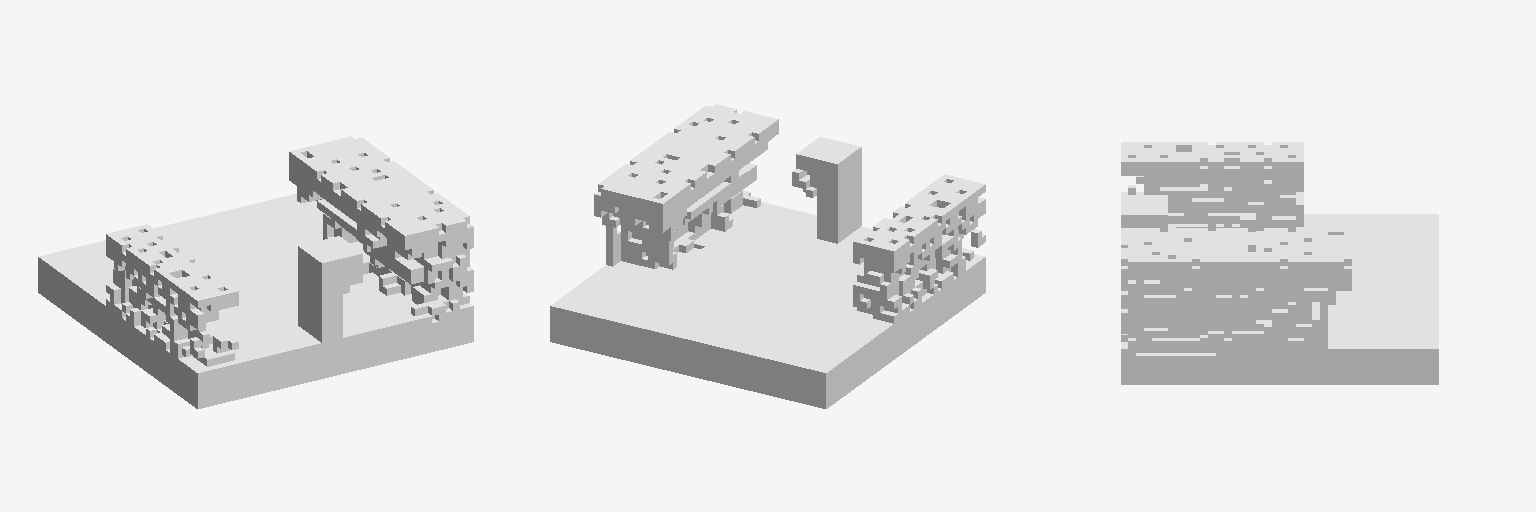
The model's file is habitat_pinguino.obj.
The picture shows the model from 3 angles: view 1: azimuth 30°, elevation 25°; view 2: azimuth 150°, elevation 25°; view 3: azimuth 270°, elevation 25°; orthographic projection.
Size of the model in its own units: 40 by 17 by 40.